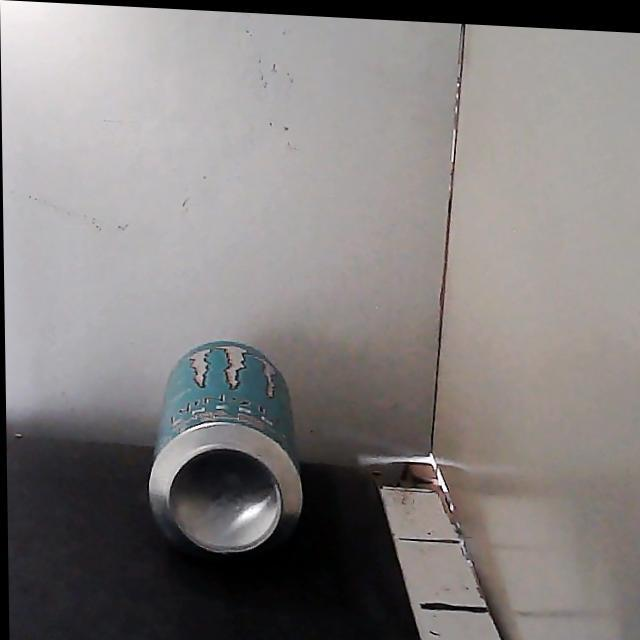metal: (149, 340, 302, 552)
